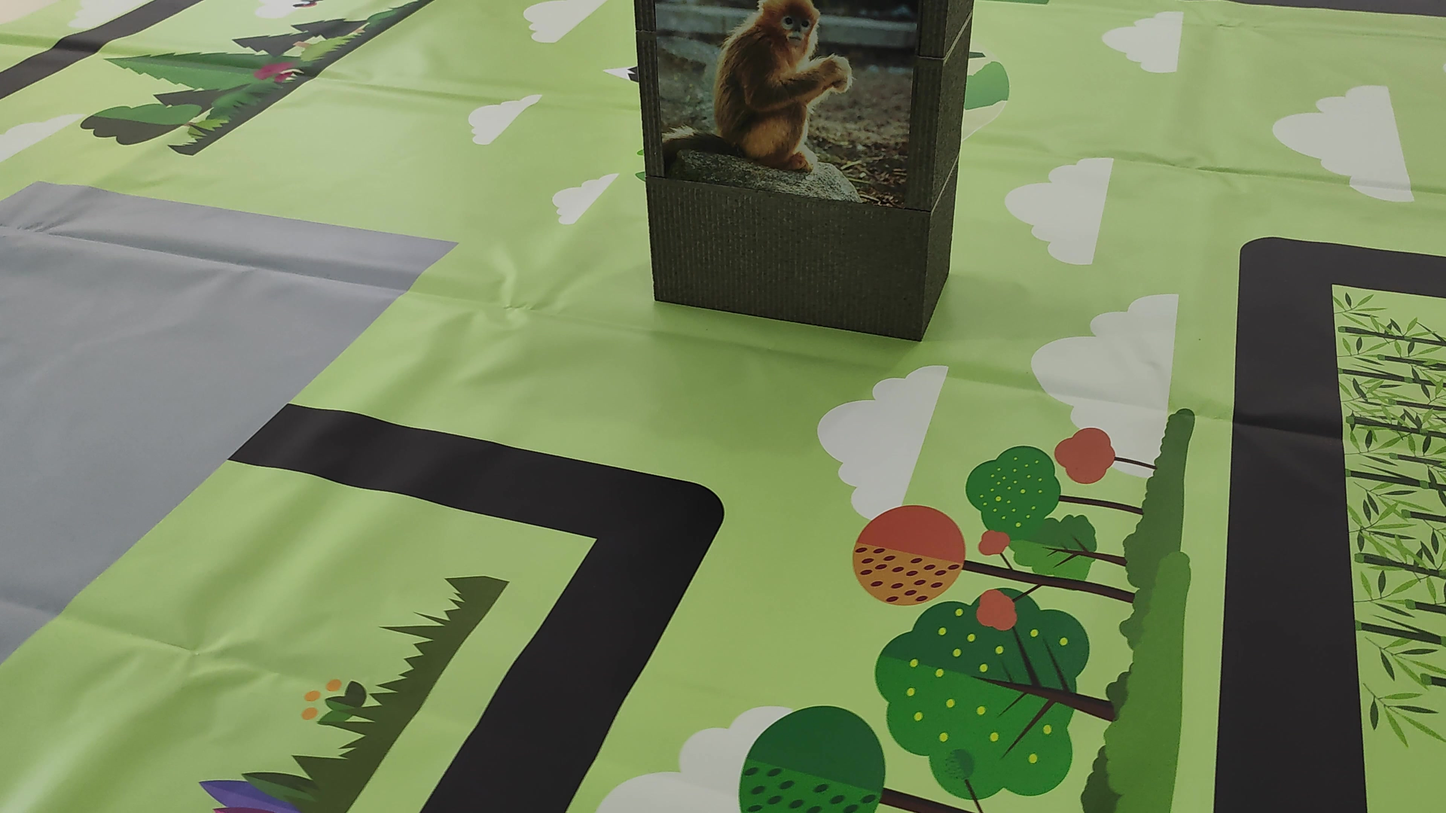monkey: (660, 8, 901, 207)
